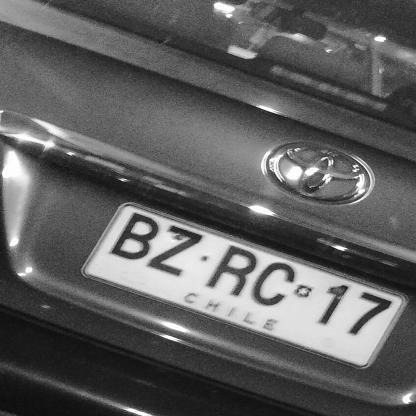Patente: (78, 199, 409, 369)
